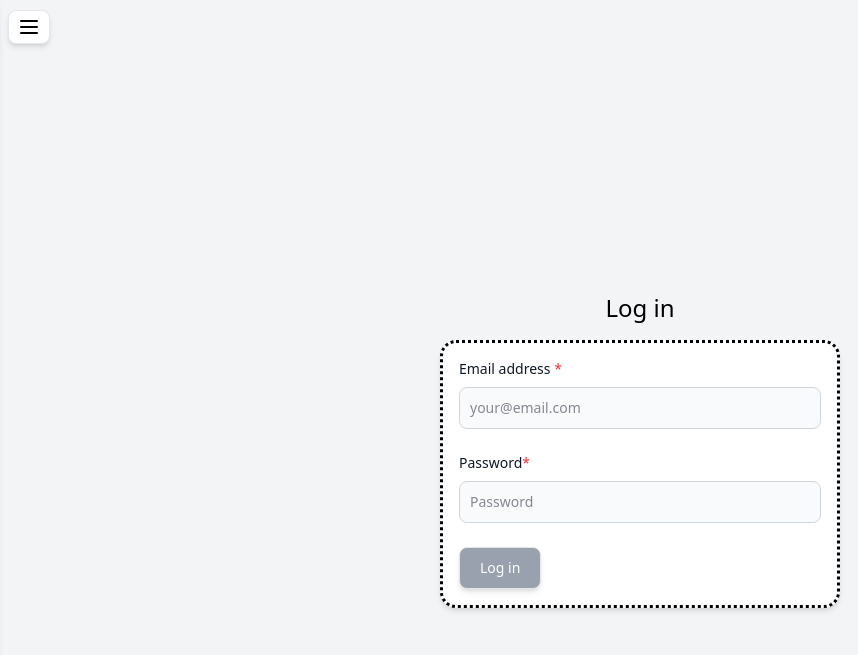
Login › should show validation messages
Expected: the button with test id "login-submit-btn" is shown, [459,547,541,589]
Type "invalid" into the field with placeholder "your@email.com". click: (640, 408)
box: [459,387,821,429]
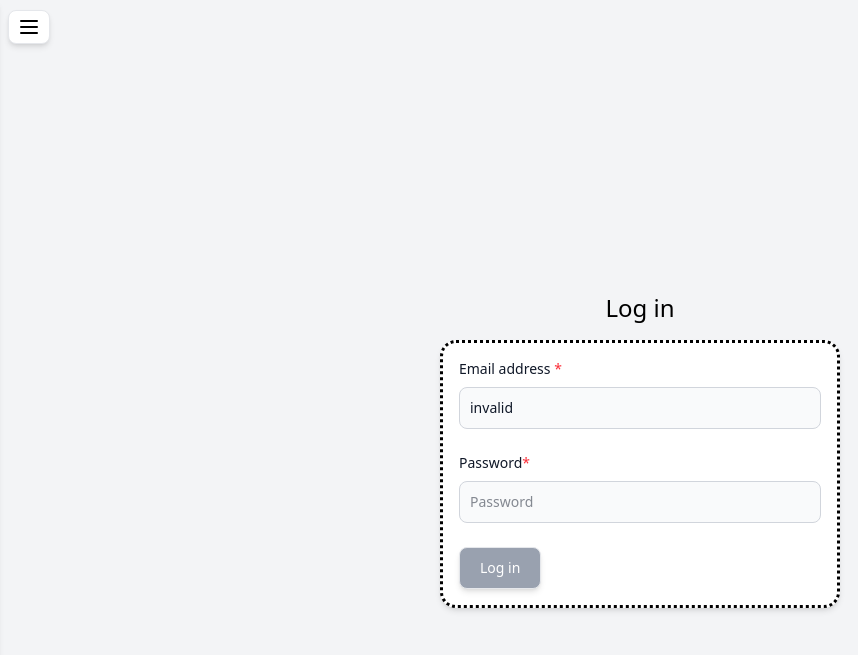
Type "pa" into the password field with placeholder "Password". click: (640, 502)
box: [459,481,821,523]
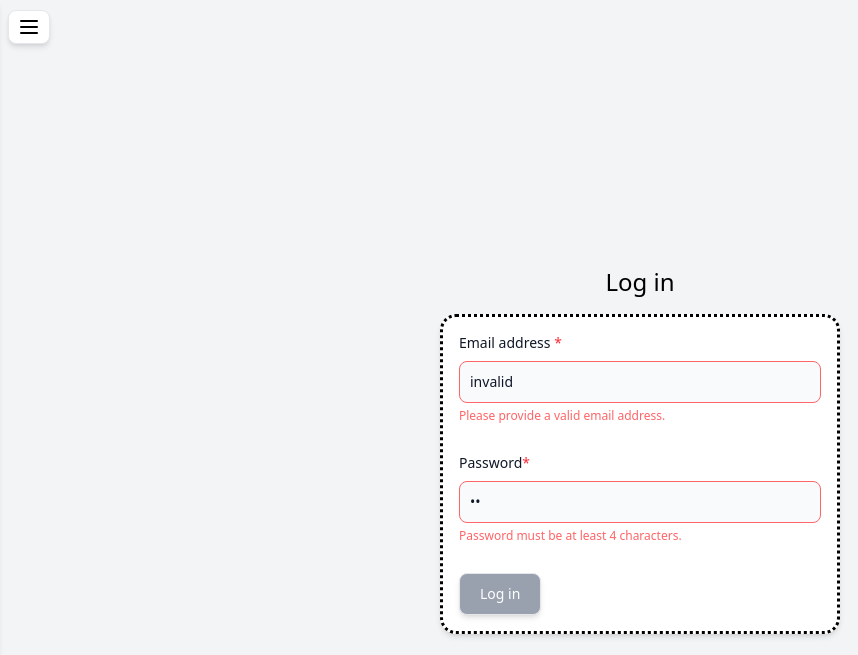
Expected: the button with test id "login-submit-btn" is disabled, [459,573,541,615]
Expected: the text "Please provide a valid email address." is shown, [459,407,665,424]
Expected: the text "Password must be at least 4 characters." is shown, [459,527,682,544]
